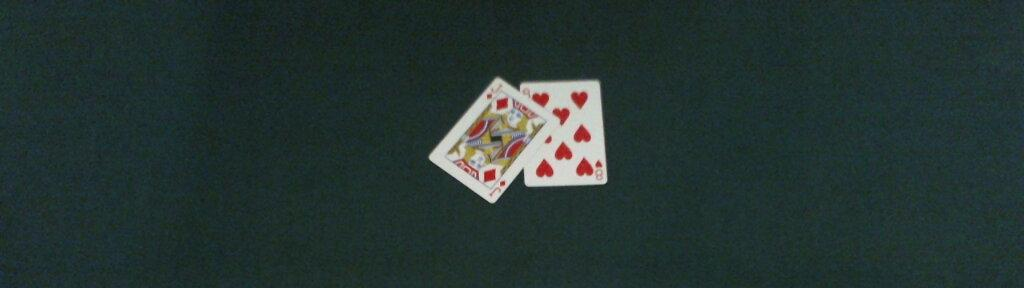eight: (520, 78, 608, 186)
jack: (426, 76, 562, 203)
